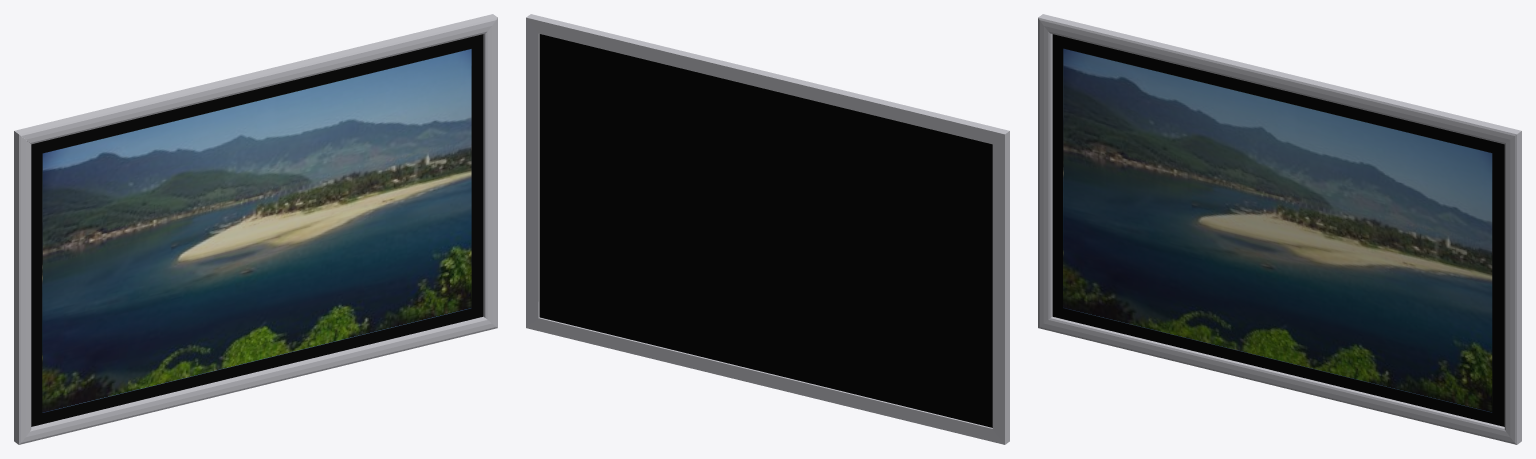
File: sweethome3d-contributions-frame-hai-van-pass.glb
3 views of the same model, side by side, from view 1: azimuth 30°, elevation 25°; view 2: azimuth 150°, elevation 25°; view 3: azimuth 330°, elevation 25° (orthographic).
Parts seen in each view (by area): view 1: Photo_Cube_Material_HaiVanPass.jpg, MetalFrame_Cylinder_Aluminium.004, Frame_Black_Material.005; view 2: Frame_Black_Material.005, MetalFrame_Cylinder_Aluminium.004; view 3: Photo_Cube_Material_HaiVanPass.jpg, MetalFrame_Cylinder_Aluminium.004, Frame_Black_Material.005.
Boxes of the visible parts, left/top/right/bottom form: Photo_Cube_Material_HaiVanPass.jpg: left=42, top=49, right=471, bottom=412; MetalFrame_Cylinder_Aluminium.004: left=14, top=14, right=497, bottom=444; Frame_Black_Material.005: left=31, top=34, right=483, bottom=426; Frame_Black_Material.005: left=539, top=34, right=992, bottom=427; MetalFrame_Cylinder_Aluminium.004: left=526, top=14, right=1009, bottom=444; Photo_Cube_Material_HaiVanPass.jpg: left=1063, top=48, right=1492, bottom=412; MetalFrame_Cylinder_Aluminium.004: left=1038, top=14, right=1521, bottom=444; Frame_Black_Material.005: left=1052, top=34, right=1504, bottom=426.
Bounding box in the file's own units: 77.24 × 47.86 × 1.5.
Materials: 3 (1 with a texture image).
